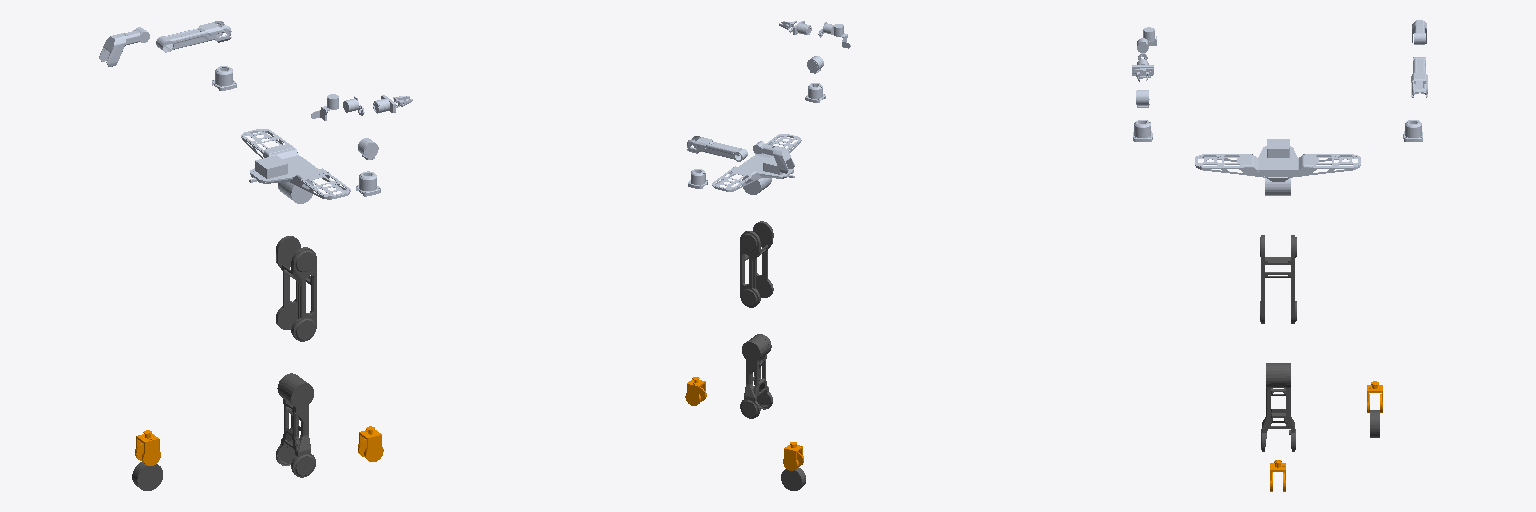
--- Render facts (derived) ---
Views: 3 orthographic renders of the robot side by side, from view 1: azimuth 30°, elevation 25°; view 2: azimuth 150°, elevation 25°; view 3: azimuth 270°, elevation 25°.
Robot: mmp_revB_invconfig_upright_a1x — 33 links, 32 joints (18 revolute, 4 continuous, 6 prismatic, 4 fixed); root link root; default pose: every joint at zero.
Visible links, largest first — view 1: torso_link3, torso_link2, torso_link1, left_arm_link2, left_arm_link3, steer_motor_link2, steer_motor_link1, wheel_motor_link2; view 2: torso_link2, torso_link3, torso_link1, left_arm_link2, left_arm_link3; view 3: torso_link3, torso_link1, torso_link2, left_arm_link2.
Link boxes in pixels (box(x1,y1,x2,y2)): torso_link3: box(241, 129, 350, 203); torso_link2: box(276, 236, 316, 341); torso_link1: box(276, 373, 315, 477); left_arm_link2: box(156, 21, 231, 52); left_arm_link3: box(99, 27, 149, 66); steer_motor_link2: box(135, 430, 160, 465); steer_motor_link1: box(358, 426, 383, 461); wheel_motor_link2: box(132, 462, 162, 490); torso_link2: box(740, 221, 773, 307); torso_link3: box(712, 134, 801, 194); torso_link1: box(740, 334, 772, 418); left_arm_link2: box(687, 136, 747, 161); left_arm_link3: box(753, 141, 794, 173); torso_link3: box(1195, 139, 1360, 195); torso_link1: box(1261, 363, 1295, 451); torso_link2: box(1260, 235, 1296, 323); left_arm_link2: box(1411, 57, 1427, 97).
Bounding box of the posed robot: 1.08 × 1.47 × 2.39 m (x, y, z).
17 mesh visuals loaded from 30 distinct referenced files (17 binary STL); not drawn: 13 (reference not matched to a file when rendering).

robot.urdf — mmp_revB_invconfig_upright_a1x:
<robot name="mmp_revB_invconfig_upright_a1x">
  <link name="root">
    <inertial>
      <mass value="0.0" />
      <inertia ixx="0.0" ixy="0.0" ixz="0.0" iyy="0.0" iyz="0.0" izz="0.0" />
    </inertial>
  </link>
  <link name="root_arm_1_link_1">
    <inertial>
      <mass value="0.0" />
      <inertia ixx="0.0" ixy="0.0" ixz="0.0" iyy="0.0" iyz="0.0" izz="0.0" />
    </inertial>
  </link>
  <link name="root_arm_1_link_2">
    <inertial>
      <mass value="0.0" />
      <inertia ixx="0.0" ixy="0.0" ixz="0.0" iyy="0.0" iyz="0.0" izz="0.0" />
    </inertial>
  </link>
  <joint name="root_x_axis_joint" type="prismatic">
    <parent link="root" />
    <child link="root_arm_1_link_1" />
    <axis xyz="1 0 0" />
    <limit effort="100" lower="-20" upper="20" velocity="0.50" />
    <dynamics damping="10.0" friction="10" />
  </joint>
  <joint name="root_y_axis_joint" type="prismatic">
    <parent link="root_arm_1_link_1" />
    <child link="root_arm_1_link_2" />
    <axis xyz="0 1 0" />
    <limit effort="100" lower="-20" upper="20" velocity="0.50" />
    <dynamics damping="10.0" friction="10" />
  </joint>
  <joint name="root_z_rotation_joint" type="continuous">
    <parent link="root_arm_1_link_2" />
    <child link="base_link" />
    <axis xyz="0 0 1" />
    <dynamics damping="10.0" friction="1" />
  </joint>
  <link name="base_link">
    <inertial>
      <origin xyz="0.1436067314319674 -0.0032558699532898 0.257501701930252" rpy="0 0 0" />
      <mass value="200.912" />
      <inertia ixx="6.111778781069088" ixy="0.0022436926826006434" ixz="-0.2515001528932861" iyy="4.865149515368128" iyz="-0.015832284749099073" izz="9.31900475153216" />
    </inertial>
    <visual>
      <origin xyz="0.0 0.0 0.0" rpy="0 0 0" />
      <geometry>
        <mesh filename="../meshes/base_link.STL" />
      </geometry>
      <material name="">
        <color rgba="0.294117647058824 0.294117647058824 0.294117647058824 1" />
      </material>
    </visual>
    <collision>
      <origin xyz="0.0 0.0 0.0" rpy="0 0 0" />
      <geometry>
        <mesh filename="../meshes/base_link.STL" />
      </geometry>
    </collision>
  </link>
  <link name="steer_motor_link1">
    <inertial>
      <origin xyz="-3.52393221159098e-07 -0.0001550232106404956 -0.170497991277301" rpy="0 0 0" />
      <mass value="12.0" />
      <inertia ixx="0.010837044817818848" ixy="1.9654322853365248e-07" ixz="2.113804565841056e-07" iyy="0.01612483045920157" iyz="1.153651931949792e-06" izz="0.006767575949965088" />
    </inertial>
    <visual>
      <origin xyz="0.0 0.0 0.0" rpy="0 0 0" />
      <geometry>
        <mesh filename="../meshes/steer_motor_link1.STL" />
      </geometry>
      <material name="">
        <color rgba="1 0.6 0 1" />
      </material>
    </visual>
    <collision>
      <origin xyz="0.0 0.0 0.0" rpy="0 0 0" />
      <geometry>
        <mesh filename="../meshes/steer_motor_link1.STL" />
      </geometry>
    </collision>
  </link>
  <joint name="steer_motor_joint1" type="revolute">
    <origin xyz="0.58366 -0.0029794 0.3633" rpy="0 0 0" />
    <parent link="base_link" />
    <child link="steer_motor_link1" />
    <axis xyz="0 0 1" />
    <limit lower="-3.1416" upper="3.1416" effort="20" velocity="20" />
  </joint>
  <link name="wheel_motor_link1">
    <inertial>
      <origin xyz="0.0 -1.998501154911018e-12 -4.69069227904128e-15" rpy="0 0 0" />
      <mass value="12.0" />
      <inertia ixx="0.03350479913728512" ixy="6.469958738282752e-17" ixz="-2.7755575615624127e-18" iyy="0.05792996322254656" iyz="1.1332033286056512e-15" izz="0.03350479913728512" />
    </inertial>
    <visual>
      <origin xyz="0.0 0.0 0.0" rpy="0 0 0" />
      <geometry>
        <mesh filename="../meshes/wheel_motor_link1.STL" />
      </geometry>
      <material name="">
        <color rgba="0.4 0.4 0.4 1" />
      </material>
    </visual>
    <collision>
      <origin xyz="0.0 0.0 0.0" rpy="0 0 0" />
      <geometry>
        <mesh filename="../meshes/wheel_motor_link1.STL" />
      </geometry>
    </collision>
  </link>
  <joint name="wheel_motor_joint1" type="continuous">
    <origin xyz="0.0 0.0 -0.2233" rpy="0 0 0" />
    <parent link="steer_motor_link1" />
    <child link="wheel_motor_link1" />
    <axis xyz="0 1 0" />
  </joint>
  <link name="steer_motor_link2">
    <inertial>
      <origin xyz="3.52393221214608e-07 0.0001550232106405924 -0.170497991277301" rpy="0 0 0" />
      <mass value="12.0" />
      <inertia ixx="0.010837044817818848" ixy="1.965432285338528e-07" ixz="-2.11380456583952e-07" iyy="0.01612483045920157" iyz="-1.1536519319500767e-06" izz="0.006767575949965056" />
    </inertial>
    <visual>
      <origin xyz="0.0 0.0 0.0" rpy="0 0 0" />
      <geometry>
        <mesh filename="../meshes/steer_motor_link2.STL" />
      </geometry>
      <material name="">
        <color rgba="1 0.6 0 1" />
      </material>
    </visual>
    <collision>
      <origin xyz="0.0 0.0 0.0" rpy="0 0 0" />
      <geometry>
        <mesh filename="../meshes/steer_motor_link2.STL" />
      </geometry>
    </collision>
  </link>
  <joint name="steer_motor_joint2" type="revolute">
    <origin xyz="-0.33634 0.47702 0.3633" rpy="0 0 0" />
    <parent link="base_link" />
    <child link="steer_motor_link2" />
    <axis xyz="0 0 1" />
    <limit lower="-3.1416" upper="3.1416" effort="20" velocity="20" />
  </joint>
  <link name="wheel_motor_link2">
    <inertial>
      <origin xyz="5.55111512312578e-17 -3.88578058618804e-16 -4.69242700251726e-15" rpy="0 0 0" />
      <mass value="12.0" />
      <inertia ixx="0.03350479913728512" ixy="6.435264268763232e-17" ixz="-2.7755575615624127e-18" iyy="0.05792996322254656" iyz="1.1330974494872448e-15" izz="0.03350479913728512" />
    </inertial>
    <visual>
      <origin xyz="0.0 0.0 0.0" rpy="0 0 0" />
      <geometry>
        <mesh filename="../meshes/wheel_motor_link2.STL" />
      </geometry>
      <material name="">
        <color rgba="0.4 0.4 0.4 1" />
      </material>
    </visual>
    <collision>
      <origin xyz="0.0 0.0 0.0" rpy="0 0 0" />
      <geometry>
        <mesh filename="../meshes/wheel_motor_link2.STL" />
      </geometry>
    </collision>
  </link>
  <joint name="wheel_motor_joint2" type="continuous">
    <origin xyz="0.0 0.0 -0.2233" rpy="0 0 0" />
    <parent link="steer_motor_link2" />
    <child link="wheel_motor_link2" />
    <axis xyz="0 1 0" />
  </joint>
  <link name="steer_motor_link3">
    <inertial>
      <origin xyz="3.52393221159098e-07 0.0001550232106404814 -0.170497991277301" rpy="0 0 0" />
      <mass value="12.0" />
      <inertia ixx="0.010837044817818848" ixy="1.965432285335539e-07" ixz="-2.113804565840253e-07" iyy="0.01612483045920157" iyz="-1.1536519319501216e-06" izz="0.006767575949965056" />
    </inertial>
    <visual>
      <origin xyz="0.0 0.0 0.0" rpy="0 0 0" />
      <geometry>
        <mesh filename="../meshes/steer_motor_link3.STL" />
      </geometry>
      <material name="">
        <color rgba="1 0.6 0 1" />
      </material>
    </visual>
    <collision>
      <origin xyz="0.0 0.0 0.0" rpy="0 0 0" />
      <geometry>
        <mesh filename="../meshes/steer_motor_link3.STL" />
      </geometry>
    </collision>
  </link>
  <joint name="steer_motor_joint3" type="revolute">
    <origin xyz="-0.33634 -0.48298 0.3633" rpy="0 0 0" />
    <parent link="base_link" />
    <child link="steer_motor_link3" />
    <axis xyz="0 0 1" />
    <limit lower="-3.1416" upper="3.1416" effort="20" velocity="20" />
  </joint>
  <link name="wheel_motor_link3">
    <inertial>
      <origin xyz="0.0 -3.88578058618804e-16 -4.68548810861336e-15" rpy="0 0 0" />
      <mass value="12.0" />
      <inertia ixx="0.03350479913728512" ixy="6.40056979924368e-17" ixz="-2.775557561562416e-18" iyy="0.05792996322254656" iyz="1.1323783185150271e-15" izz="0.03350479913728512" />
    </inertial>
    <visual>
      <origin xyz="0.0 0.0 0.0" rpy="0 0 0" />
      <geometry>
        <mesh filename="../meshes/wheel_motor_link3.STL" />
      </geometry>
      <material name="">
        <color rgba="0.4 0.4 0.4 1" />
      </material>
    </visual>
    <collision>
      <origin xyz="0.0 0.0 0.0" rpy="0 0 0" />
      <geometry>
        <mesh filename="../meshes/wheel_motor_link3.STL" />
      </geometry>
    </collision>
  </link>
  <joint name="wheel_motor_joint3" type="continuous">
    <origin xyz="0.0 0.0 -0.2233" rpy="0 0 0" />
    <parent link="steer_motor_link3" />
    <child link="wheel_motor_link3" />
    <axis xyz="0 1 0" />
  </joint>
  <link name="torso_link1">
    <inertial>
      <origin xyz="0.00642393596796118 0.0233133490513818 0.201395950480594" rpy="0 0 0" />
      <mass value="38.456" />
      <inertia ixx="0.09936367805582497" ixy="0.0001246257756638288" ixz="-0.003584953952407616" iyy="0.10459800313051648" iyz="0.0013276243088330751" izz="0.011359807588411649" />
    </inertial>
    <visual>
      <origin xyz="0.0 0.0 0.0" rpy="0 0 0" />
      <geometry>
        <mesh filename="../meshes/torso_link1.STL" />
      </geometry>
      <material name="">
        <color rgba="0.4 0.4 0.4 1" />
      </material>
    </visual>
    <collision>
      <origin xyz="0.0 0.0 0.0" rpy="0 0 0" />
      <geometry>
        <mesh filename="../meshes/torso_link1.STL" />
      </geometry>
    </collision>
  </link>
  <joint name="torso_joint1" type="revolute">
    <origin xyz="0.183662 0.00072066 0.2973" rpy="0 0 0" />
    <parent link="base_link" />
    <child link="torso_link1" />
    <axis xyz="0 1 0" />
    <limit lower="-1.5708" upper="0.436333" effort="100" velocity="2.5" />
  </joint>
  <link name="torso_link2">
    <inertial>
      <origin xyz="0.01254601913848926 0.0107217514060139 0.368237593237858" rpy="0 0 0" />
      <mass value="22.232" />
      <inertia ixx="0.9905304381048224" ixy="-1.785470994821779e-05" ixz="0.009534469643672033" iyy="1.040544564477056" iyz="2.8803091525264545e-05" izz="0.05928206866941728" />
    </inertial>
    <visual>
      <origin xyz="0.0 0.0 0.0" rpy="0 0 0" />
      <geometry>
        <mesh filename="../meshes/torso_link2.STL" />
      </geometry>
      <material name="">
        <color rgba="0.4 0.4 0.4 1" />
      </material>
    </visual>
    <collision>
      <origin xyz="0.0 0.0 0.0" rpy="0 0 0" />
      <geometry>
        <mesh filename="../meshes/torso_link2.STL" />
      </geometry>
    </collision>
  </link>
  <joint name="torso_joint2" type="revolute">
    <origin xyz="0.0 -0.0037 0.7" rpy="0 0 0" />
    <parent link="torso_link1" />
    <child link="torso_link2" />
    <axis xyz="0 1 0" />
    <limit lower="-2.705262" upper="2.705262" effort="100" velocity="2.5" />
  </joint>
  <link name="torso_link3">
    <inertial>
      <origin xyz="-0.0832766172812898 0.000969199164746464 0.102222017955318" rpy="0 0 0" />
      <mass value="43.464" />
      <inertia ixx="0.20711019200351297" ixy="-1.4446745686976671e-05" ixz="-0.0004117998314954368" iyy="0.1735414621099936" iyz="-5.36035185228016e-06" izz="0.2704198196312893" />
    </inertial>
    <visual>
      <origin xyz="0.0 0.0 0.0" rpy="0 0 0" />
      <geometry>
        <mesh filename="../meshes/torso_link3.STL" />
      </geometry>
      <material name="">
        <color rgba="0.807843137254902 0.843137254901961 0.905882352941176 1" />
      </material>
    </visual>
    <collision>
      <origin xyz="0.0 0.0 0.0" rpy="0 0 0" />
      <geometry>
        <mesh filename="../meshes/torso_link3.STL" />
      </geometry>
    </collision>
  </link>
  <joint name="torso_joint3" type="revolute">
    <origin xyz="0.00019297 0.0 0.7" rpy="0 0 0" />
    <parent link="torso_link2" />
    <child link="torso_link3" />
    <axis xyz="0 -1 0" />
    <limit lower="-1.5708" upper="1.5708" effort="100" velocity="2.5" />
  </joint>
  <link name="left_arm_base_link">
    <inertial>
      <origin xyz="0.0060666451928322 -0.001390748423520826 0.0595999827997398" rpy="0 0 0" />
      <mass value="6.288" />
      <inertia ixx="0.006708446544124192" ixy="4.493705854582784e-05" ixz="0.00018198069976810977" iyy="0.006393507442944128" iyz="-0.00011703211657792032" izz="0.00759871639556512" />
    </inertial>
    <visual>
      <origin xyz="0.0 0.0 0.0" rpy="0 0 0" />
      <geometry>
        <mesh filename="../meshes/left_arm_base_link.STL" />
      </geometry>
      <material name="">
        <color rgba="0.807843137254902 0.843137254901961 0.905882352941176 1" />
      </material>
    </visual>
    <collision>
      <origin xyz="0.0 0.0 0.0" rpy="0 0 0" />
      <geometry>
        <mesh filename="../meshes/left_arm_base_link.STL" />
      </geometry>
    </collision>
  </link>
  <joint name="left_arm_base_joint" type="fixed">
    <origin xyz="0.0 0.67 0.24612" rpy="0 0 0" />
    <parent link="torso_link3" />
    <child link="left_arm_base_link" />
    <axis xyz="0 0 0" />
  </joint>
  <link name="left_arm_link1">
    <inertial>
      <origin xyz="6.84158065755724e-07 -0.00397258183009518 0.0937732309567232" rpy="0 0 0" />
      <mass value="6.712" />
      <inertia ixx="0.007172646985134368" ixy="-1.5290483058093823e-08" ixz="2.6987848147558595e-07" iyy="0.008633899613476544" iyz="3.00270882674095e-07" izz="0.00699925991077392" />
    </inertial>
    <visual>
      <origin xyz="0.0 0.0 0.0" rpy="0 0 0" />
      <geometry>
        <mesh filename="../meshes/left_arm_link1.STL" />
      </geometry>
      <material name="">
        <color rgba="0.807843137254902 0.843137254901961 0.905882352941176 1" />
      </material>
    </visual>
    <collision>
      <origin xyz="0.0 0.0 0.0" rpy="0 0 0" />
      <geometry>
        <mesh filename="../meshes/left_arm_link1.STL" />
      </geometry>
    </collision>
  </link>
  <joint name="left_arm_joint1" type="revolute">
    <origin xyz="0.0 0.0 0.1721" rpy="0 0 0" />
    <parent link="left_arm_base_link" />
    <child link="left_arm_link1" />
    <axis xyz="0 0 1" />
    <limit lower="-2.8798" upper="2.8798" effort="27" velocity="10.472" />
  </joint>
  <link name="left_arm_link2">
    <inertial>
      <origin xyz="-0.24535034548187 -0.0590768692157322 0.00730060357421092" rpy="0 0 0" />
      <mass value="8.72" />
      <inertia ixx="0.012423741773241471" ixy="-0.0006964447436020768" ixz="0.0002852564904124627" iyy="0.08788399165872415" iyz="3.831944734772704e-05" izz="0.08896385474841792" />
    </inertial>
    <visual>
      <origin xyz="0.0 0.0 0.0" rpy="0 0 0" />
      <geometry>
        <mesh filename="../meshes/left_arm_link2.STL" />
      </geometry>
      <material name="">
        <color rgba="0.807843137254902 0.843137254901961 0.905882352941176 1" />
      </material>
    </visual>
    <collision>
      <origin xyz="0.0 0.0 0.0" rpy="0 0 0" />
      <geometry>
        <mesh filename="../meshes/left_arm_link2.STL" />
      </geometry>
    </collision>
  </link>
  <joint name="left_arm_joint2" type="revolute">
    <origin xyz="0.0 0.0615 0.0985" rpy="0 0 0" />
    <parent link="left_arm_link1" />
    <child link="left_arm_link2" />
    <axis xyz="0 1 0" />
    <limit lower="0" upper="3.1416" effort="50" velocity="12.5664" />
  </joint>
  <link name="left_arm_link3">
    <inertial>
      <origin xyz="0.1133249586447582 -0.0582632932157998 0.1136037689373018" rpy="0 0 0" />
      <mass value="5.912" />
      <inertia ixx="0.008253041448206048" ixy="0.00032862544432152" ixz="-0.004214199027295456" iyy="0.02148327146382192" iyz="-0.00025708241097570177" izz="0.017601651553803808" />
    </inertial>
    <visual>
      <origin xyz="0.0 0.0 0.0" rpy="0 0 0" />
      <geometry>
        <mesh filename="../meshes/left_arm_link3.STL" />
      </geometry>
      <material name="">
        <color rgba="0.807843137254902 0.843137254901961 0.905882352941176 1" />
      </material>
    </visual>
    <collision>
      <origin xyz="0.0 0.0 0.0" rpy="0 0 0" />
      <geometry>
        <mesh filename="../meshes/left_arm_link3.STL" />
      </geometry>
    </collision>
  </link>
  <joint name="left_arm_joint3" type="revolute">
    <origin xyz="-0.6 0.00050008 0.0" rpy="0 0 0" />
    <parent link="left_arm_link2" />
    <child link="left_arm_link3" />
    <axis xyz="0 1 0" />
    <limit lower="-3.3161" upper="0" effort="27" velocity="10.472" />
  </joint>
  <link name="left_arm_link4">
    <inertial>
      <origin xyz="0.1399680060387162 -0.0575009394728894 0.1083936636394456" rpy="0 0 0" />
      <mass value="3.352" />
      <inertia ixx="0.0021184220675666303" ixy="-2.996340767010208e-07" ixz="-1.3628049800193823e-07" iyy="0.0021737831662187873" iyz="2.4887260287675745e-05" izz="0.0021416494329876386" />
    </inertial>
    <visual>
      <origin xyz="0.0 0.0 0.0" rpy="0 0 0" />
      <geometry>
        <mesh filename="../meshes/left_arm_link4.STL" />
      </geometry>
      <material name="">
        <color rgba="0.807843137254902 0.843137254901961 0.905882352941176 1" />
      </material>
    </visual>
    <collision>
      <origin xyz="0.0 0.0 0.0" rpy="0 0 0" />
      <geometry>
        <mesh filename="../meshes/left_arm_link4.STL" />
      </geometry>
    </collision>
  </link>
  <joint name="left_arm_joint4" type="revolute">
    <origin xyz="0.3494 0.00099478 0.15097" rpy="0 0 0" />
    <parent link="left_arm_link3" />
    <child link="left_arm_link4" />
    <axis xyz="0 1 0" />
    <limit lower="-1.5708" upper="1.5708" effort="14" velocity="32.9867" />
  </joint>
  <link name="left_arm_link5">
    <inertial>
      <origin xyz="-0.001606397967796148 -4.58057828556236e-07 -0.0805312283912918" rpy="0 0 0" />
      <mass value="0.432" />
      <inertia ixx="0.001857347164035504" ixy="-6.229051663446688e-12" ixz="3.571643021657856e-13" iyy="0.0018444721849494303" iyz="-1.1397883235898336e-09" izz="0.0018193868150818177" />
    </inertial>
    <visual>
      <origin xyz="0.0 0.0 0.0" rpy="0 0 0" />
      <geometry>
        <mesh filename="../meshes/left_arm_link5.STL" />
      </geometry>
      <material name="">
        <color rgba="0.807843137254902 0.843137254901961 0.905882352941176 1" />
      </material>
    </visual>
    <collision>
      <origin xyz="0.0 0.0 0.0" rpy="0 0 0" />
      <geometry>
        <mesh filename="../meshes/left_arm_link5.STL" />
      </geometry>
    </collision>
  </link>
  <joint name="left_arm_joint5" type="revolute">
    <origin xyz="0.16 -0.062996 0.081" rpy="0 0 0" />
    <parent link="left_arm_link4" />
    <child link="left_arm_link5" />
    <axis xyz="0 0 1" />
    <limit lower="-1.5708" upper="1.5708" effort="14" velocity="32.9867" />
  </joint>
  <link name="left_arm_link6">
    <inertial>
      <origin xyz="0.01419888853922806 -1.781346292695218e-09 -7.65264471764838e-05" rpy="0 0 0" />
      <mass value="0.248" />
      <inertia ixx="0.00011024877685885344" ixy="-6.421001503665696e-12" ixz="-4.036383206065888e-08" iyy="5.842328982055104e-05" iyz="-1.265166973511536e-13" izz="5.815391698480832e-05" />
    </inertial>
    <visual>
      <origin xyz="0.0 0.0 0.0" rpy="0 0 0" />
      <geometry>
        <mesh filename="../meshes/left_arm_link6.STL" />
      </geometry>
      <material name="">
        <color rgba="0.807843137254902 0.843137254901961 0.905882352941176 1" />
      </material>
    </visual>
    <collision>
      <origin xyz="0.0 0.0 0.0" rpy="0 0 0" />
      <geometry>
        <mesh filename="../meshes/left_arm_link6.STL" />
      </geometry>
    </collision>
  </link>
  <joint name="left_arm_joint6" type="revolute">
    <origin xyz="0.045006 0.0 -0.081" rpy="0 0 0" />
    <parent link="left_arm_link5" />
    <child link="left_arm_link6" />
    <axis xyz="1 0 0" />
    <limit lower="-2.8798" upper="2.8798" effort="14" velocity="32.9867" />
  </joint>
  <link name="left_gripper_link">
    <inertial>
      <origin xyz="-0.0622144647799206 2.35959983774236e-08 1.586789371010866e-07" rpy="0 0 0" />
      <mass value="4.832" />
      <inertia ixx="0.005628209414065248" ixy="-1.9392846427232258e-09" ixz="1.698058897997968e-08" iyy="0.0031564141046442912" iyz="-2.6197974159868543e-06" izz="0.005283880978560928" />
    </inertial>
    <visual>
      <origin xyz="0.0 0.0 0.0" rpy="0 0 0" />
      <geometry>
        <mesh filename="../meshes/left_gripper_link.STL" />
      </geometry>
      <material name="">
        <color rgba="0.807843137254902 0.843137254901961 0.905882352941176 1" />
      </material>
    </visual>
    <collision>
      <origin xyz="0.0 0.0 0.0" rpy="0 0 0" />
      <geometry>
        <mesh filename="../meshes/left_gripper_link.STL" />
      </geometry>
    </collision>
  </link>
  <joint name="left_gripper_joint" type="fixed">
    <origin xyz="0.1633 0.0 0.0" rpy="0 0 0" />
    <parent link="left_arm_link6" />
    <child link="left_gripper_link" />
    <axis xyz="0 0 0" />
  </joint>
  <link name="left_gripper_finger_link1">
    <inertial>
      <origin xyz="-0.0391791791104224 -0.0302273690980068 0.0108450871818615" rpy="0 0 0" />
      <mass value="0.16157213848276" />
      <inertia ixx="7.698219471270688e-05" ixy="1.276750707489536e-05" ixz="1.6388888389876513e-06" iyy="0.00018274537545840512" iyz="1.9822972864267616e-06" izz="0.00020751429885771457" />
    </inertial>
    <visual>
      <origin xyz="0.0 0.0 0.0" rpy="0 0 0" />
      <geometry>
        <mesh filename="../meshes/left_gripper_finger_link1.STL" />
      </geometry>
      <material name="">
        <color rgba="0.807843137254902 0.843137254901961 0.905882352941176 1" />
      </material>
    </visual>
    <collision>
      <origin xyz="0.0 0.0 0.0" rpy="0 0 0" />
      <geometry>
        <mesh filename="../meshes/left_gripper_finger_link1.STL" />
      </geometry>
    </collision>
  </link>
  <joint name="left_gripper_finger_joint1" type="prismatic">
    <origin xyz="0.07378 0.026906 0.00024118" rpy="0 0 0" />
    <parent link="left_gripper_link" />
    <child link="left_gripper_finger_link1" />
    <axis xyz="0 1 0" />
    <limit lower="0" upper="0.05" effort="100" velocity="0.25" />
  </joint>
  <link name="left_gripper_finger_link2">
    <inertial>
      <origin xyz="-0.0391791715998196 0.030227378701623 -0.01084508714493238" rpy="0 0 0" />
      <mass value="0.1615721393159928" />
      <inertia ixx="7.698218884853984e-05" ixy="-1.2767481114467969e-05" ixz="-1.6388885858367393e-06" iyy="0.00018274538290877728" iyz="1.9822974496209154e-06" izz="0.00020751429992775104" />
    </inertial>
    <visual>
      <origin xyz="0.0 0.0 0.0" rpy="0 0 0" />
      <geometry>
        <mesh filename="../meshes/left_gripper_finger_link2.STL" />
      </geometry>
      <material name="">
        <color rgba="0.807843137254902 0.843137254901961 0.905882352941176 1" />
      </material>
    </visual>
    <collision>
      <origin xyz="0.0 0.0 0.0" rpy="0 0 0" />
      <geometry>
        <mesh filename="../meshes/left_gripper_finger_link2.STL" />
      </geometry>
    </collision>
  </link>
  <joint name="left_gripper_finger_joint2" type="prismatic">
    <origin xyz="0.07378 -0.026906 -0.00024118" rpy="0 0 0" />
    <parent link="left_gripper_link" />
    <child link="left_gripper_finger_link2" />
    <axis xyz="0 1 0" />
    <limit lower="-0.05" upper="0" effort="100" velocity="0.25" />
  </joint>
  <link name="right_arm_base_link">
    <inertial>
      <origin xyz="0.00606664519301562 -0.00139074842228315 0.0595999827996774" rpy="0 0 0" />
      <mass value="6.288" />
      <inertia ixx="0.006708446544116032" ixy="4.493705860944928e-05" ixz="0.0001819806997869664" iyy="0.006393507442966496" iyz="-0.0001170321165402464" izz="0.0075987163955752" />
    </inertial>
    <visual>
      <origin xyz="0.0 0.0 0.0" rpy="0 0 0" />
      <geometry>
        <mesh filename="../meshes/right_arm_base_link.STL" />
      </geometry>
      <material name="">
        <color rgba="0.807843137254902 0.843137254901961 0.905882352941176 1" />
      </material>
    </visual>
    <collision>
      <origin xyz="0.0 0.0 0.0" rpy="0 0 0" />
      <geometry>
        <mesh filename="../meshes/right_arm_base_link.STL" />
      </geometry>
    </collision>
  </link>
  <joint name="right_arm_base_joint" type="fixed">
    <origin xyz="0.0 -0.67 0.24612" rpy="0 0 0" />
    <parent link="torso_link3" />
    <child link="right_arm_base_link" />
    <axis xyz="0 0 0" />
  </joint>
  <link name="right_arm_link1">
    <inertial>
      <origin xyz="6.84158065755724e-07 -0.00397258183009518 0.0937732309567232" rpy="0 0 0" />
      <mass value="6.712" />
      <inertia ixx="0.007172646985134368" ixy="-1.5290483058093823e-08" ixz="2.6987848147558595e-07" iyy="0.008633899613476544" iyz="3.00270882674095e-07" izz="0.00699925991077392" />
    </inertial>
    <visual>
      <origin xyz="0.0 0.0 0.0" rpy="0 0 0" />
      <geometry>
        <mesh filename="../meshes/right_arm_link1.STL" />
      </geometry>
      <material name="">
        <color rgba="0.807843137254902 0.843137254901961 0.905882352941176 1" />
      </material>
    </visual>
    <collision>
      <origin xyz="0.0 0.0 0.0" rpy="0 0 0" />
      <geometry>
        <mesh filename="../meshes/right_arm_link1.STL" />
      </geometry>
    </collision>
  </link>
  <joint name="right_arm_joint1" type="revolute">
    <origin xyz="0.0 0.0 0.1721" rpy="0 0 0" />
    <parent link="right_arm_base_link" />
    <child link="right_arm_link1" />
    <axis xyz="0 0 1" />
    <limit lower="-2.8798" upper="2.8798" effort="27" velocity="10.472" />
  </joint>
  <link name="right_arm_link2">
    <inertial>
      <origin xyz="-0.24535034548187 -0.0590768692157322 0.00730060357421092" rpy="0 0 0" />
      <mass value="8.72" />
      <inertia ixx="0.012423741773241471" ixy="-0.0006964447436020768" ixz="0.0002852564904124627" iyy="0.08788399165872415" iyz="3.831944734772704e-05" izz="0.08896385474841792" />
    </inertial>
    <visual>
      <origin xyz="0.0 0.0 0.0" rpy="0 0 0" />
      <geometry>
        <mesh filename="../meshes/right_arm_link2.STL" />
      </geometry>
      <material name="">
        <color rgba="0.807843137254902 0.843137254901961 0.905882352941176 1" />
      </material>
    </visual>
    <collision>
      <origin xyz="0.0 0.0 0.0" rpy="0 0 0" />
      <geometry>
        <mesh filename="../meshes/right_arm_link2.STL" />
      </geometry>
    </collision>
  </link>
  <joint name="right_arm_joint2" type="revolute">
    <origin xyz="0.0 0.0615 0.0985" rpy="0 0 0" />
    <parent link="right_arm_link1" />
    <child link="right_arm_link2" />
    <axis xyz="0 1 0" />
    <limit lower="0" upper="3.1416" effort="50" velocity="12.5664" />
  </joint>
  <link name="right_arm_link3">
    <inertial>
      <origin xyz="0.1133249586447582 -0.0582632932157998 0.1136037689373018" rpy="0 0 0" />
      <mass value="5.912" />
      <inertia ixx="0.008253041448206048" ixy="0.00032862544432152" ixz="-0.004214199027295456" iyy="0.02148327146382192" iyz="-0.00025708241097570177" izz="0.017601651553803808" />
    </inertial>
    <visual>
      <origin xyz="0.0 0.0 0.0" rpy="0 0 0" />
      <geometry>
        <mesh filename="../meshes/right_arm_link3.STL" />
      </geometry>
      <material name="">
        <color rgba="0.807843137254902 0.843137254901961 0.905882352941176 1" />
      </material>
    </visual>
    <collision>
      <origin xyz="0.0 0.0 0.0" rpy="0 0 0" />
      <geometry>
        <mesh filename="../meshes/right_arm_link3.STL" />
      </geometry>
    </collision>
  </link>
  <joint name="right_arm_joint3" type="revolute">
    <origin xyz="-0.6 0.00050008 0.0" rpy="0 0 0" />
    <parent link="right_arm_link2" />
    <child link="right_arm_link3" />
    <axis xyz="0 1 0" />
    <limit lower="-3.3161" upper="0" effort="27" velocity="10.472" />
  </joint>
  <link name="right_arm_link4">
    <inertial>
      <origin xyz="0.1399680060387162 -0.0575009394728894 0.1083936636394456" rpy="0 0 0" />
      <mass value="3.352" />
      <inertia ixx="0.0021184220675666303" ixy="-2.996340767010208e-07" ixz="-1.3628049800193823e-07" iyy="0.0021737831662187873" iyz="2.4887260287675745e-05" izz="0.0021416494329876386" />
    </inertial>
    <visual>
      <origin xyz="0.0 0.0 0.0" rpy="0 0 0" />
      <geometry>
        <mesh filename="../meshes/right_arm_link4.STL" />
      </geometry>
      <material name="">
        <color rgba="0.807843137254902 0.843137254901961 0.905882352941176 1" />
      </material>
    </visual>
    <collision>
      <origin xyz="0.0 0.0 0.0" rpy="0 0 0" />
      <geometry>
        <mesh filename="../meshes/right_arm_link4.STL" />
      </geometry>
    </collision>
  </link>
  <joint name="right_arm_joint4" type="revolute">
    <origin xyz="0.3494 0.00099478 0.15097" rpy="0 0 0" />
    <parent link="right_arm_link3" />
    <child link="right_arm_link4" />
    <axis xyz="0 1 0" />
    <limit lower="-1.5708" upper="1.5708" effort="14" velocity="32.9867" />
  </joint>
  <link name="right_arm_link5">
    <inertial>
      <origin xyz="-0.001606397967796148 -4.58057828556236e-07 -0.0805312283912918" rpy="0 0 0" />
      <mass value="0.432" />
      <inertia ixx="0.001857347164035504" ixy="-6.229051663446688e-12" ixz="3.571643021657856e-13" iyy="0.0018444721849494303" iyz="-1.1397883235898336e-09" izz="0.0018193868150818177" />
    </inertial>
    <visual>
      <origin xyz="0.0 0.0 0.0" rpy="0 0 0" />
      <geometry>
        <mesh filename="../meshes/right_arm_link5.STL" />
      </geometry>
      <material name="">
        <color rgba="0.807843137254902 0.843137254901961 0.905882352941176 1" />
      </material>
    </visual>
    <collision>
      <origin xyz="0.0 0.0 0.0" rpy="0 0 0" />
      <geometry>
        <mesh filename="../meshes/right_arm_link5.STL" />
      </geometry>
    </collision>
  </link>
  <joint name="right_arm_joint5" type="revolute">
    <origin xyz="0.16 -0.062996 0.081" rpy="0 0 0" />
    <parent link="right_arm_link4" />
    <child link="right_arm_link5" />
    <axis xyz="0 0 1" />
    <limit lower="-1.5708" upper="1.5708" effort="14" velocity="32.9867" />
  </joint>
  <link name="right_arm_link6">
    <inertial>
      <origin xyz="0.01419888853922806 -1.781346292695218e-09 -7.65264471764838e-05" rpy="0 0 0" />
      <mass value="0.248" />
      <inertia ixx="0.00011024877685885344" ixy="-6.421001503665696e-12" ixz="-4.036383206065888e-08" iyy="5.842328982055104e-05" iyz="-1.265166973511536e-13" izz="5.815391698480832e-05" />
    </inertial>
    <visual>
      <origin xyz="0.0 0.0 0.0" rpy="0 0 0" />
      <geometry>
        <mesh filename="../meshes/right_arm_link6.STL" />
      </geometry>
      <material name="">
        <color rgba="0.807843137254902 0.843137254901961 0.905882352941176 1" />
      </material>
    </visual>
    <collision>
      <origin xyz="0.0 0.0 0.0" rpy="0 0 0" />
      <geometry>
        <mesh filename="../meshes/right_arm_link6.STL" />
      </geometry>
    </collision>
  </link>
  <joint name="right_arm_joint6" type="revolute">
    <origin xyz="0.045006 0.0 -0.081" rpy="0 0 0" />
    <parent link="right_arm_link5" />
    <child link="right_arm_link6" />
    <axis xyz="1 0 0" />
    <limit lower="-2.8798" upper="2.8798" effort="14" velocity="32.9867" />
  </joint>
  <link name="right_gripper_link">
    <inertial>
      <origin xyz="-0.0622144647799206 2.35959983774236e-08 1.586789371010866e-07" rpy="0 0 0" />
      <mass value="4.832" />
      <inertia ixx="0.005628209414065248" ixy="-1.9392846427232258e-09" ixz="1.698058897997968e-08" iyy="0.0031564141046442912" iyz="-2.6197974159868543e-06" izz="0.005283880978560928" />
    </inertial>
    <visual>
      <origin xyz="0.0 0.0 0.0" rpy="0 0 0" />
      <geometry>
        <mesh filename="../meshes/right_gripper_link.STL" />
      </geometry>
      <material name="">
        <color rgba="0.807843137254902 0.843137254901961 0.905882352941176 1" />
      </material>
    </visual>
    <collision>
      <origin xyz="0.0 0.0 0.0" rpy="0 0 0" />
      <geometry>
        <mesh filename="../meshes/right_gripper_link.STL" />
      </geometry>
    </collision>
  </link>
  <joint name="right_gripper_joint" type="fixed">
    <origin xyz="0.1633 0.0 0.0" rpy="0 0 0" />
    <parent link="right_arm_link6" />
    <child link="right_gripper_link" />
    <axis xyz="0 0 0" />
  </joint>
  <link name="right_gripper_finger_link1">
    <inertial>
      <origin xyz="-0.0391791791104224 -0.0302273690980068 0.0108450871818615" rpy="0 0 0" />
      <mass value="0.16157213848276" />
      <inertia ixx="7.698219471270688e-05" ixy="1.276750707489536e-05" ixz="1.6388888389876513e-06" iyy="0.00018274537545840512" iyz="1.9822972864267616e-06" izz="0.00020751429885771457" />
    </inertial>
    <visual>
      <origin xyz="0.0 0.0 0.0" rpy="0 0 0" />
      <geometry>
        <mesh filename="../meshes/right_gripper_finger_link1.STL" />
      </geometry>
      <material name="">
        <color rgba="0.807843137254902 0.843137254901961 0.905882352941176 1" />
      </material>
    </visual>
    <collision>
      <origin xyz="0.0 0.0 0.0" rpy="0 0 0" />
      <geometry>
        <mesh filename="../meshes/right_gripper_finger_link1.STL" />
      </geometry>
    </collision>
  </link>
  <joint name="right_gripper_finger_joint1" type="prismatic">
    <origin xyz="0.07378 0.026906 0.00024118" rpy="0 0 0" />
    <parent link="right_gripper_link" />
    <child link="right_gripper_finger_link1" />
    <axis xyz="0 1 0" />
    <limit lower="0" upper="0.05" effort="100" velocity="0.25" />
  </joint>
  <link name="right_gripper_finger_link2">
    <inertial>
      <origin xyz="-0.0391791715998196 0.030227378701623 -0.01084508714493238" rpy="0 0 0" />
      <mass value="0.1615721393159928" />
      <inertia ixx="7.698218884853984e-05" ixy="-1.2767481114467969e-05" ixz="-1.6388885858367393e-06" iyy="0.00018274538290877728" iyz="1.9822974496209154e-06" izz="0.00020751429992775104" />
    </inertial>
    <visual>
      <origin xyz="0.0 0.0 0.0" rpy="0 0 0" />
      <geometry>
        <mesh filename="../meshes/right_gripper_finger_link2.STL" />
      </geometry>
      <material name="">
        <color rgba="0.807843137254902 0.843137254901961 0.905882352941176 1" />
      </material>
    </visual>
    <collision>
      <origin xyz="0.0 0.0 0.0" rpy="0 0 0" />
      <geometry>
        <mesh filename="../meshes/right_gripper_finger_link2.STL" />
      </geometry>
    </collision>
  </link>
  <joint name="right_gripper_finger_joint2" type="prismatic">
    <origin xyz="0.07378 -0.026906 -0.00024118" rpy="0 0 0" />
    <parent link="right_gripper_link" />
    <child link="right_gripper_finger_link2" />
    <axis xyz="0 1 0" />
    <limit lower="-0.05" upper="0" effort="100" velocity="0.25" />
  </joint>
</robot>
